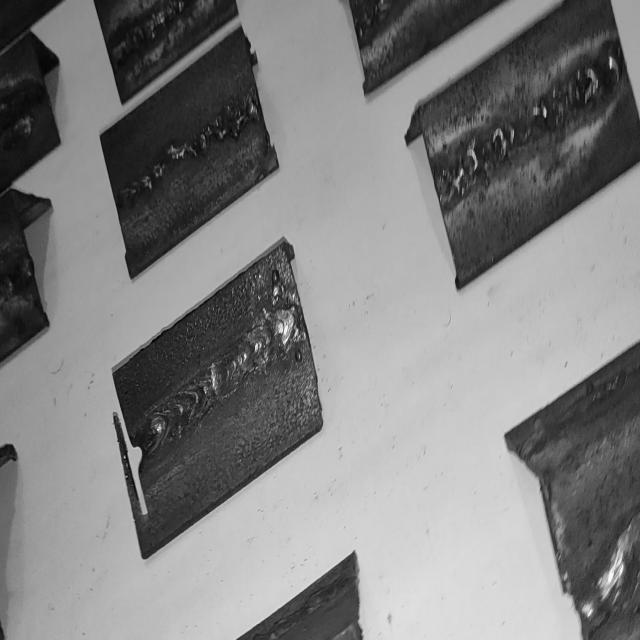Defect: (438, 45, 622, 201), (119, 95, 255, 203)
Welding Line: (442, 45, 620, 191), (144, 305, 298, 460), (115, 91, 258, 212)
Workpiece: (106, 240, 324, 552), (414, 0, 640, 284), (100, 29, 274, 278)
